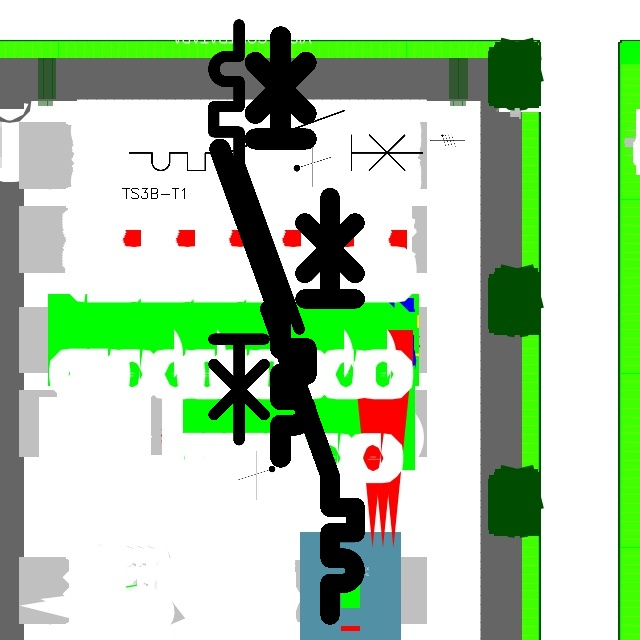interruptor_termomagnetico: (209, 26, 317, 468), (259, 186, 366, 625), (203, 14, 310, 451), (122, 103, 430, 178)
